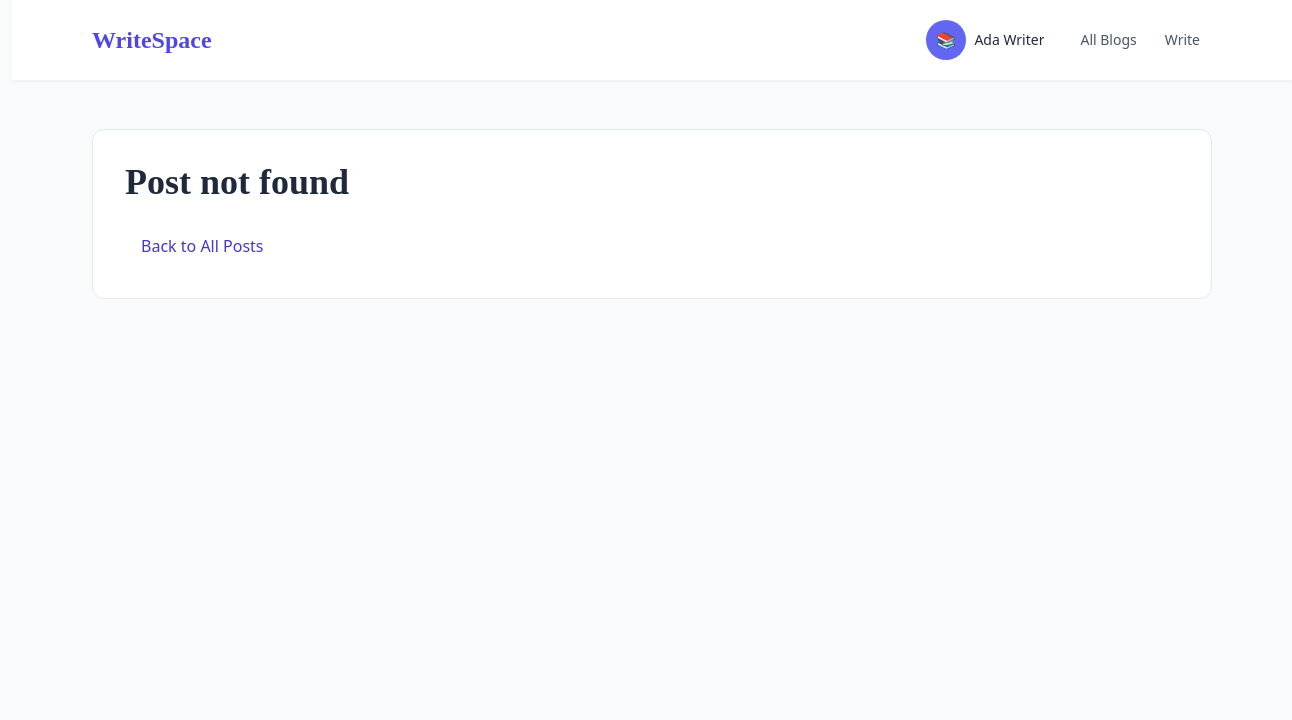
writing form and guarded routes › shows missing edit and a working back link
Expected: the heading "Post not found" is shown, 125,162 -> 349,202
Click the link "Back to All Posts": (202, 246) 141,235 -> 264,257
(page scrolled)
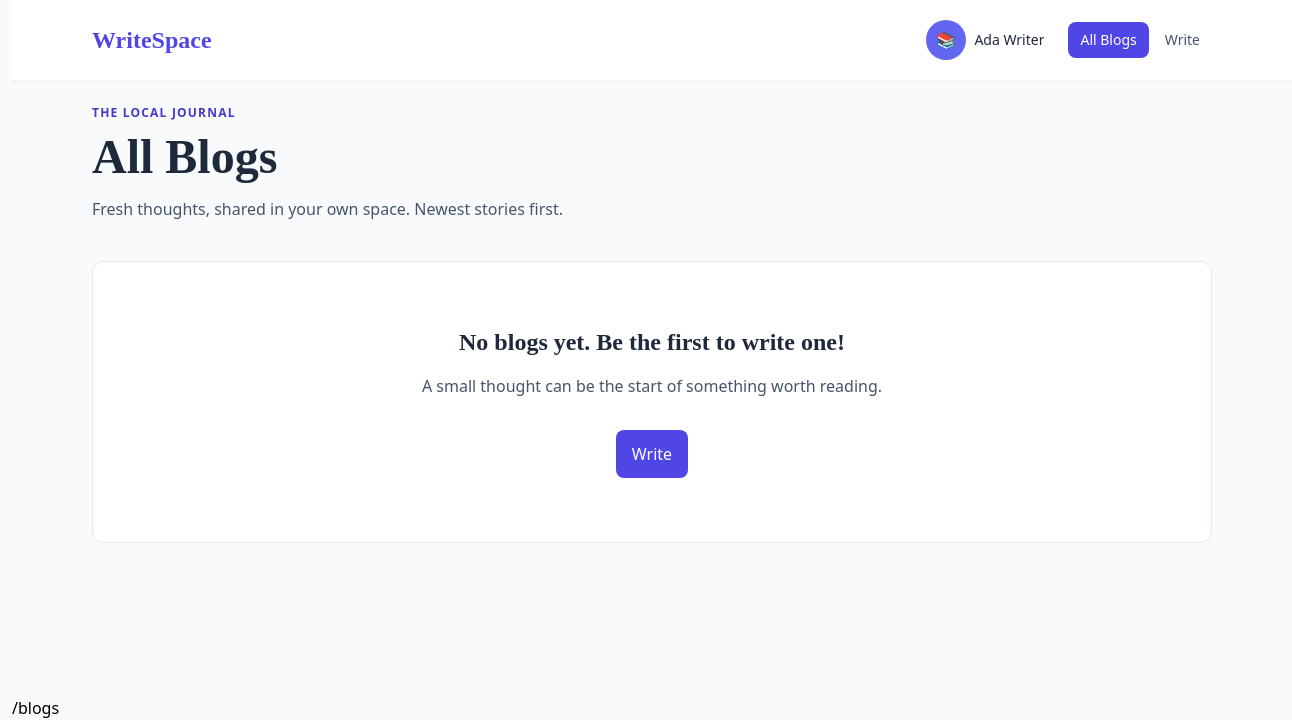
Result: the text named "Current route" reads "/blogs" at 12,697 -> 59,719
